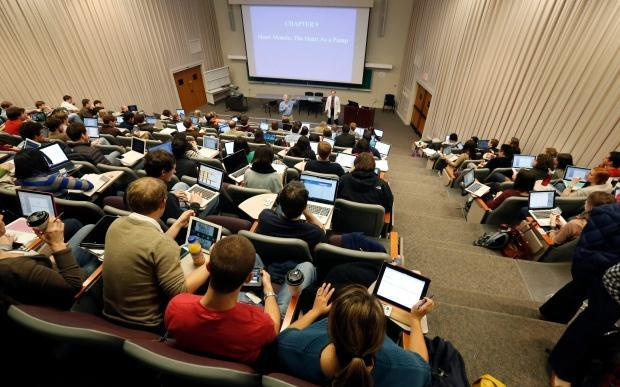nohelmet: (323, 283, 390, 358), (206, 235, 256, 292), (127, 175, 166, 217), (12, 148, 49, 181), (278, 177, 307, 218), (144, 149, 178, 183), (581, 187, 612, 220), (583, 163, 609, 189), (508, 165, 535, 189), (64, 121, 88, 147), (19, 121, 45, 143), (252, 142, 273, 167), (352, 151, 374, 173), (532, 150, 553, 171), (169, 133, 188, 156), (600, 144, 618, 168), (228, 133, 248, 153), (44, 114, 62, 133), (315, 138, 331, 156), (554, 149, 570, 167), (100, 113, 117, 128), (355, 134, 369, 150), (4, 106, 19, 120), (461, 138, 476, 151), (54, 109, 67, 123), (496, 140, 508, 155), (360, 126, 372, 140), (296, 133, 307, 148), (182, 115, 194, 128), (204, 110, 217, 122), (134, 112, 146, 125), (250, 127, 262, 139), (338, 122, 350, 134), (238, 113, 249, 126), (508, 134, 519, 147), (227, 117, 238, 129), (280, 91, 292, 102), (61, 93, 73, 104), (268, 117, 281, 127), (485, 136, 495, 149), (123, 110, 134, 121), (289, 119, 300, 130), (35, 99, 47, 109), (448, 130, 457, 143), (80, 97, 91, 107), (321, 124, 330, 136), (347, 120, 357, 130), (301, 121, 308, 134), (319, 119, 328, 129), (92, 98, 103, 106), (161, 107, 170, 116), (329, 121, 337, 131), (192, 107, 201, 115), (329, 86, 336, 95), (121, 103, 128, 110)
